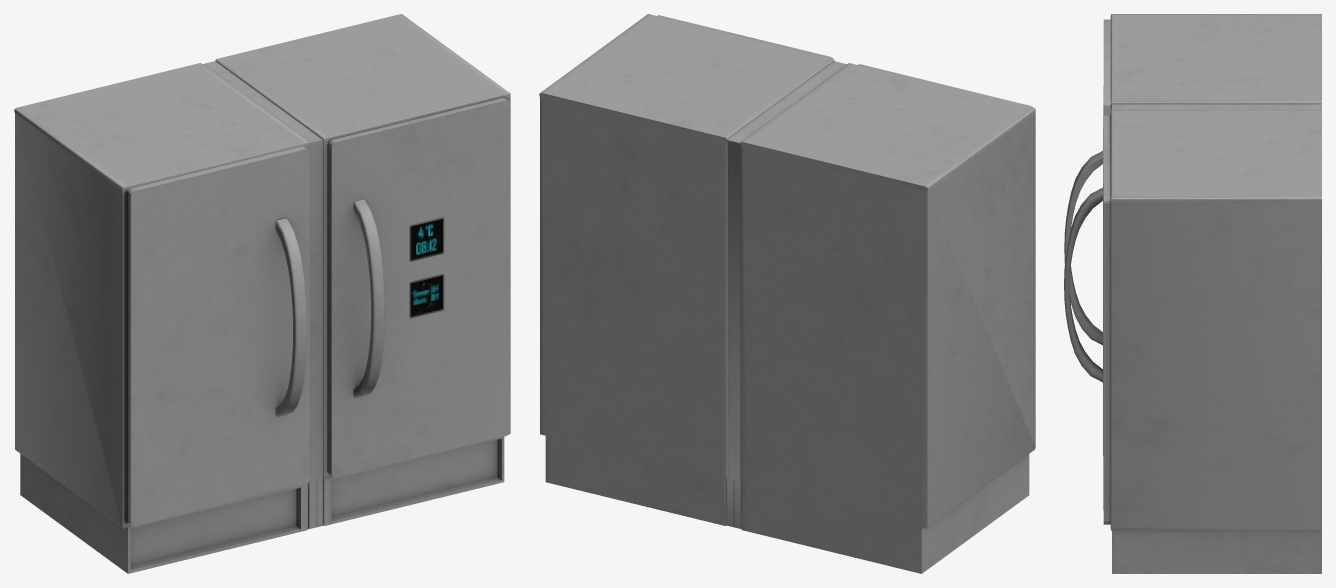
Rendered from fridge 1.fbx.
The picture shows the model from 3 angles, left to right: view 1: azimuth 30°, elevation 25°; view 2: azimuth 150°, elevation 25°; view 3: azimuth 270°, elevation 25°; orthographic projection. The views are drawn at different scales.
Visible parts, largest first — view 1: fridge.001, fridgedoorright.001, fridgedoorleft.001; view 2: fridge.001; view 3: fridge.001, fridgedoorright.001, fridgedoorleft.001.
Part boxes in pixels (<box>): fridge.001: <box>14,14,510,573</box>; fridgedoorright.001: <box>327,97,510,477</box>; fridgedoorleft.001: <box>127,146,309,526</box>; fridge.001: <box>539,14,1035,573</box>; fridge.001: <box>1110,14,1321,573</box>; fridgedoorright.001: <box>1064,115,1110,524</box>; fridgedoorleft.001: <box>1064,19,1110,345</box>.
Size of the model in its own units: 414 by 396 by 244.
